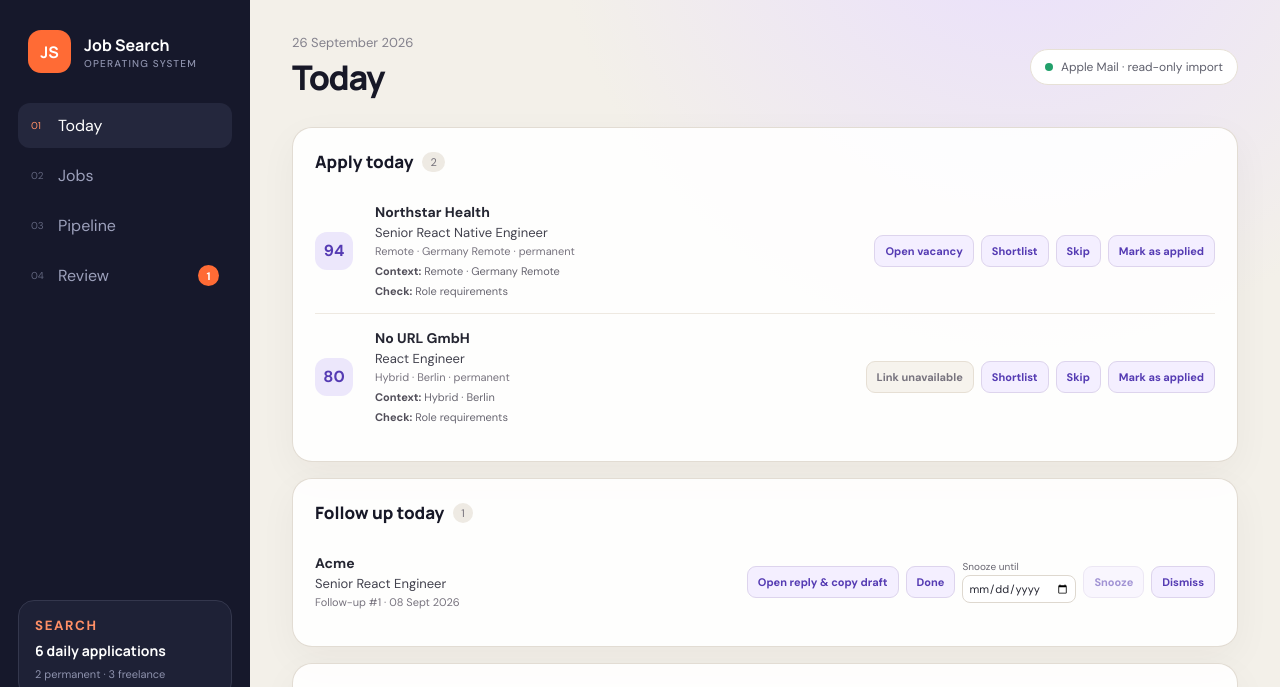
Scenario: App › late document baseline cannot replace a confirmed interview note
Expected: the heading "Today" is shown, 292,54 -> 384,100
Click the button "03 Pipeline".
click(125, 226)  # box 18,203 -> 232,248
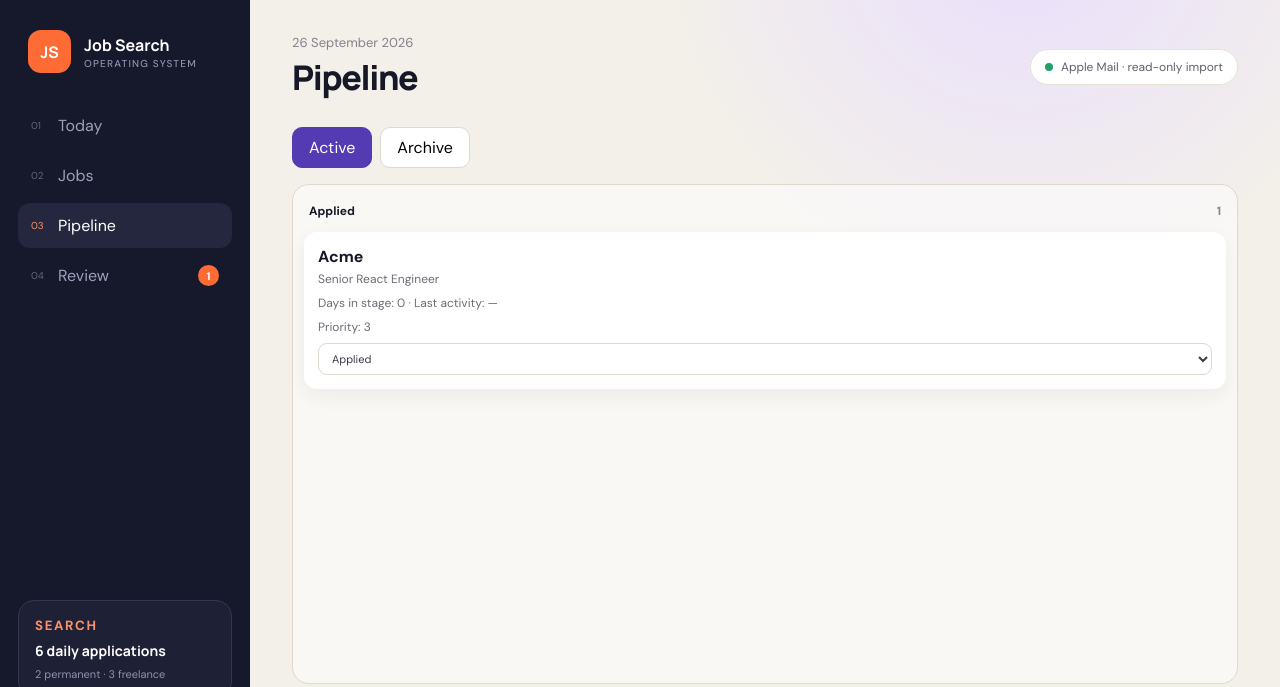
Click the button with aria-label "Details for Acme — Senior React Engineer".
click(341, 256)  # box 318,246 -> 1212,287
(page scrolled)
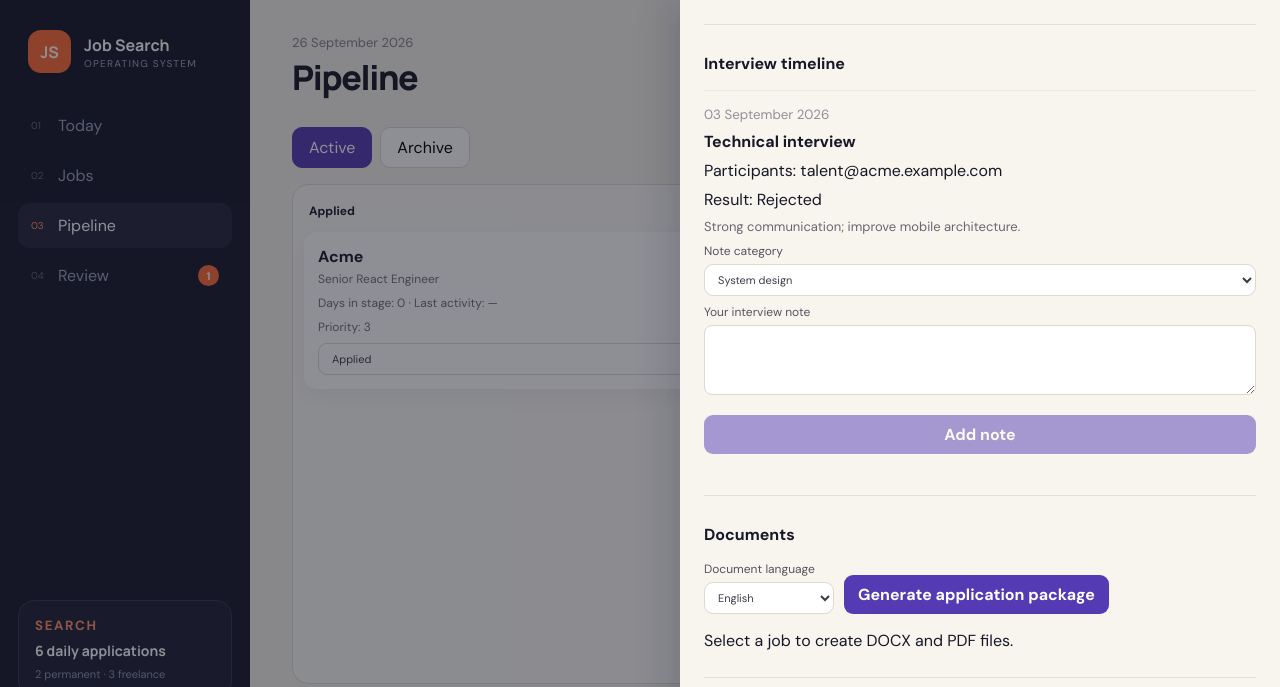
Type "Confirmed note" into the text box named "Note for Acme".
click(980, 360); type("Confirmed note")  # box 704,325 -> 1256,395
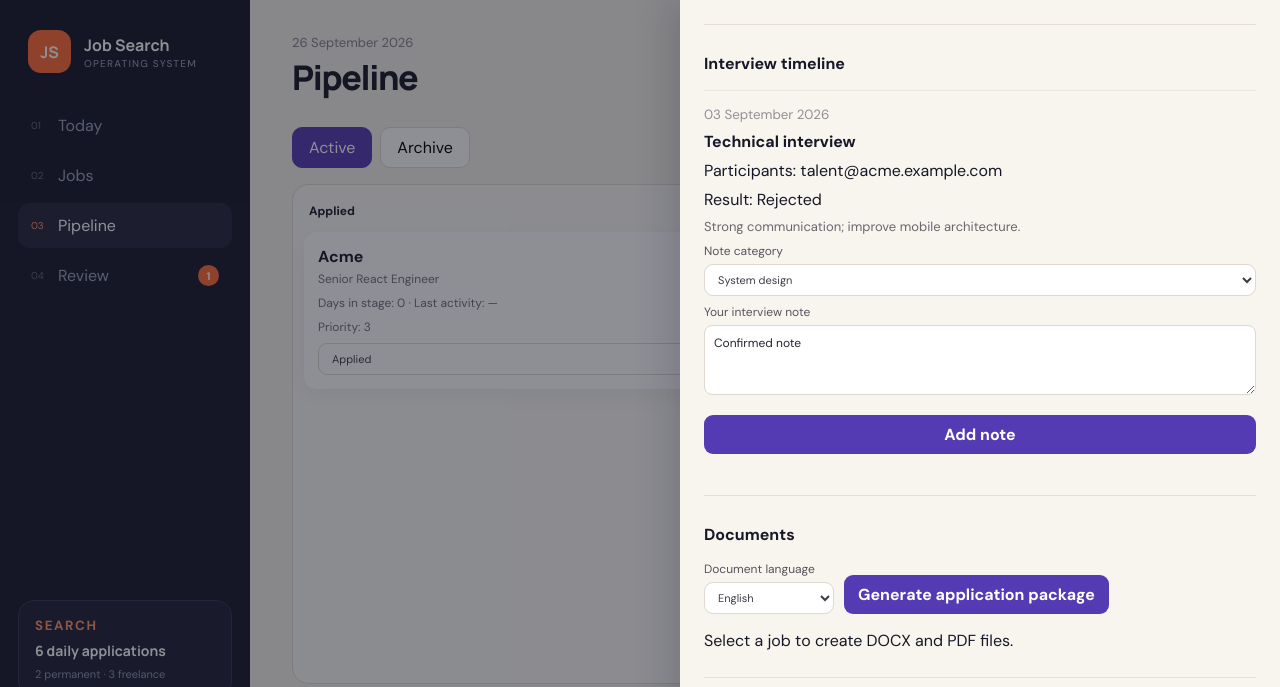
Click the button "Generate application package".
click(976, 594)  # box 844,575 -> 1109,614
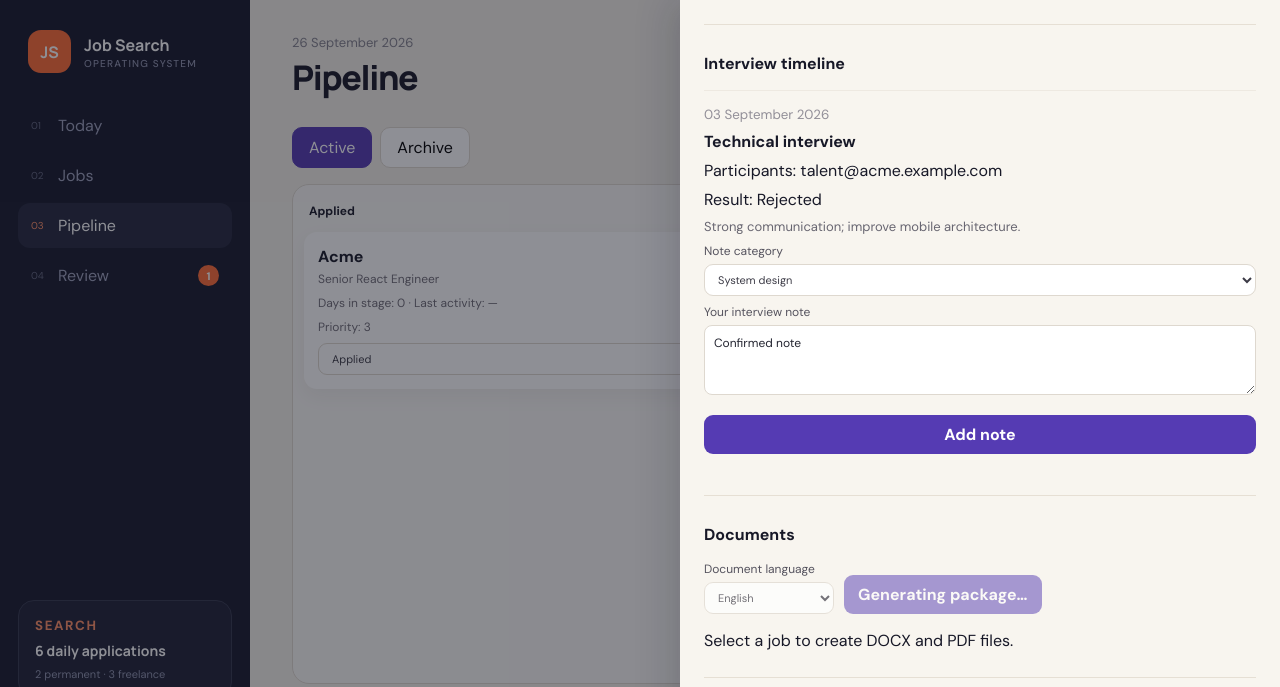
Click the button "Add note".
click(980, 434)  # box 704,415 -> 1256,454
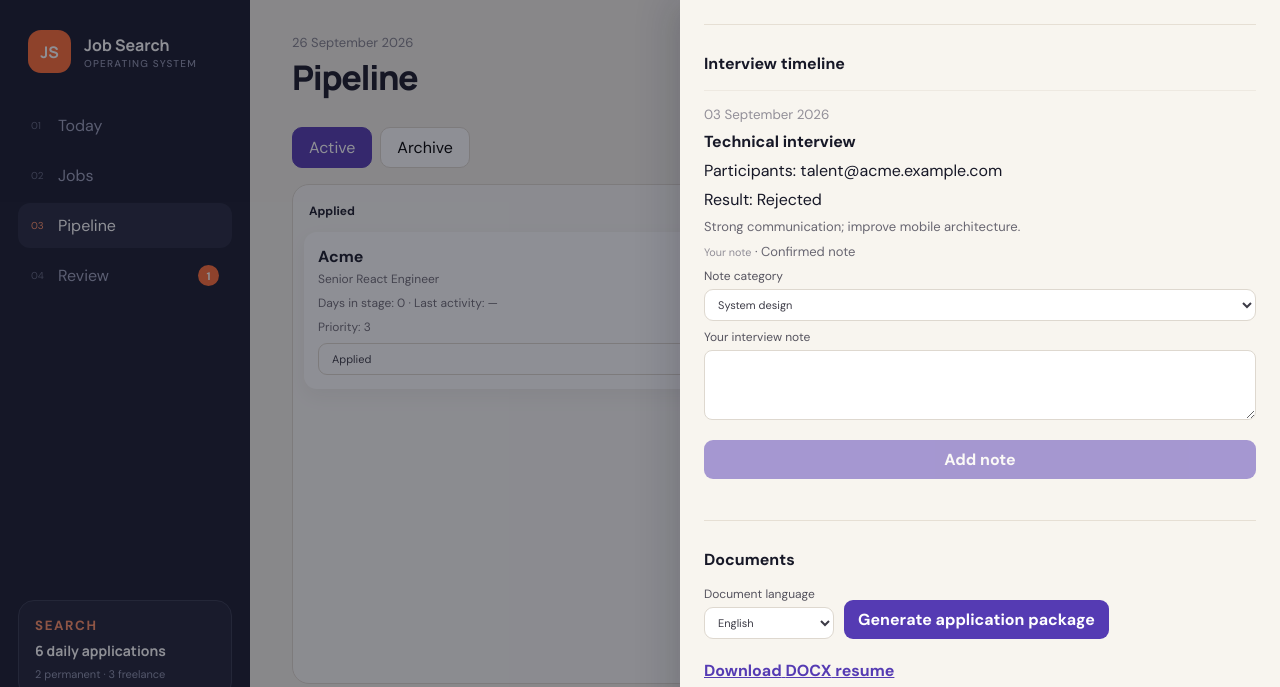
Expected: the text "Confirmed note" is shown, 761,243 -> 855,260
